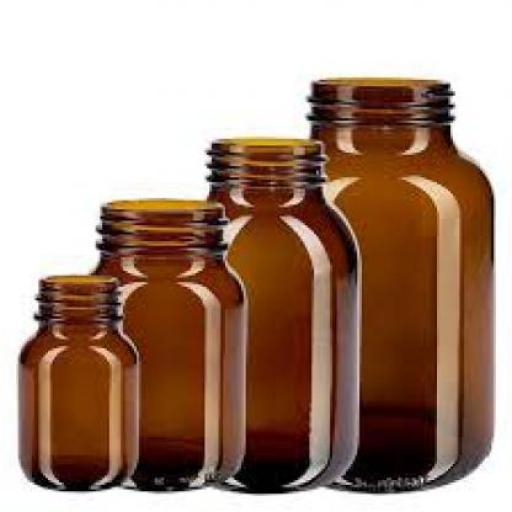glass: (310, 78, 494, 491), (207, 137, 364, 491), (93, 198, 248, 494), (20, 272, 141, 492)
